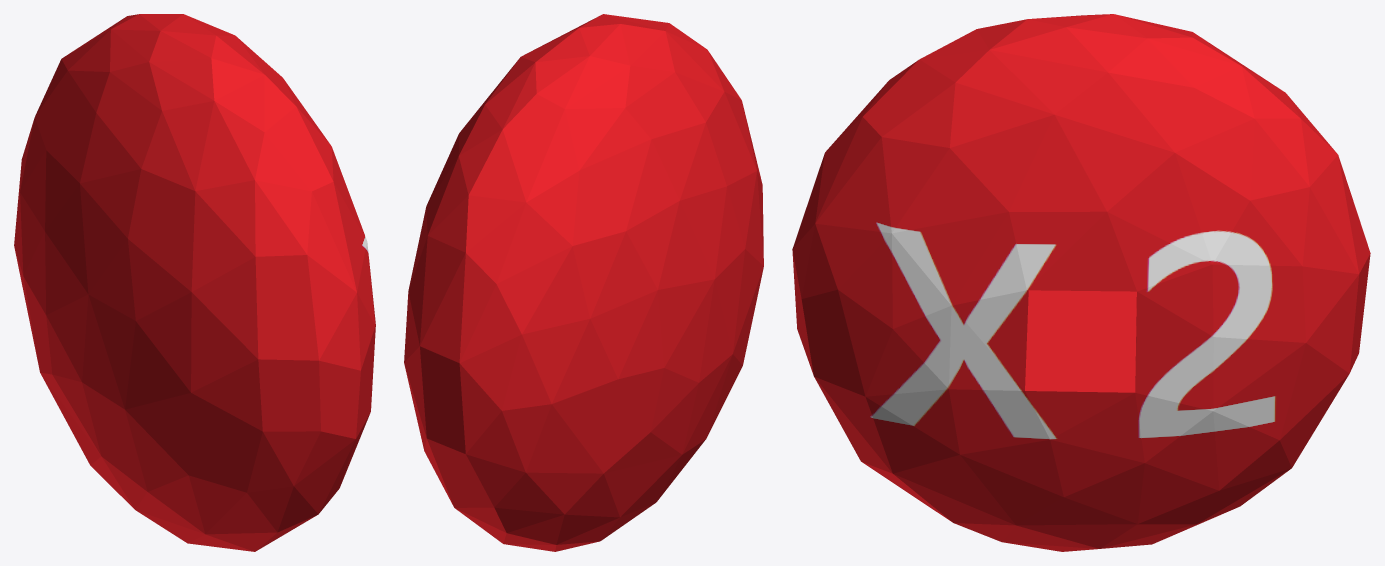
The model's file is Double Coins.fbx.
3 views of the same model, side by side, from view 1: azimuth 30°, elevation 25°; view 2: azimuth 150°, elevation 25°; view 3: azimuth 270°, elevation 25° (orthographic). The views are drawn at different scales.
Visible parts, largest first — view 1: Sphere; view 2: Sphere; view 3: Sphere.
Part boxes in pixels (x1,y1,x2,y2): Sphere: (14,14,375,551); Sphere: (404,14,763,551); Sphere: (792,14,1370,551).
Size of the model in its own units: 98.67 by 200 by 200.
